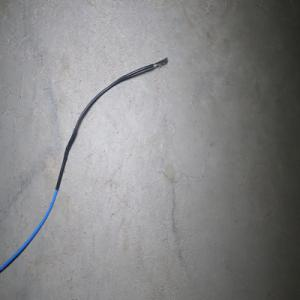Wire: (0, 57, 167, 273)
